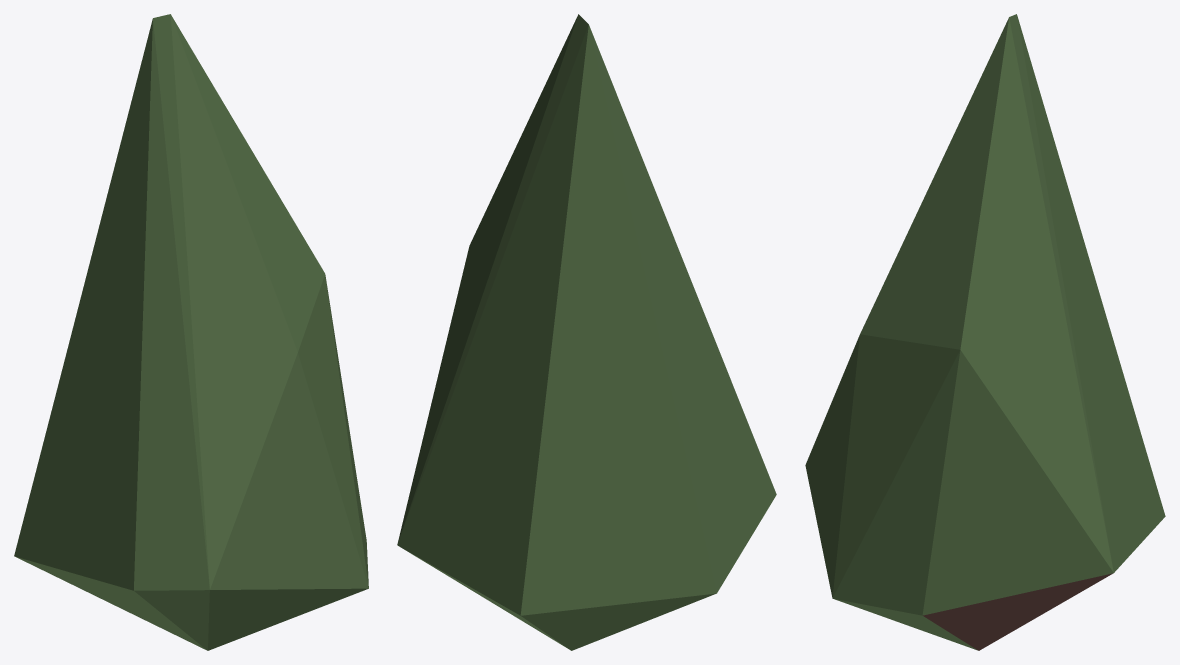
The model's file is PineTree_2.lod4.glb.
The picture shows the model from 3 angles, left to right: view 1: azimuth 30°, elevation 25°; view 2: azimuth 150°, elevation 25°; view 3: azimuth 270°, elevation 25°; orthographic projection. The views are drawn at different scales.
Parts seen in each view (by area): view 1: PineTree_2; view 2: PineTree_2; view 3: PineTree_2.
Boxes of the visible parts, left/top/right/bottom form: PineTree_2: left=14, top=14, right=368, bottom=650; PineTree_2: left=397, top=14, right=776, bottom=650; PineTree_2: left=805, top=14, right=1165, bottom=650.
Size of the model in its own units: 1.81 by 3.67 by 1.92.
